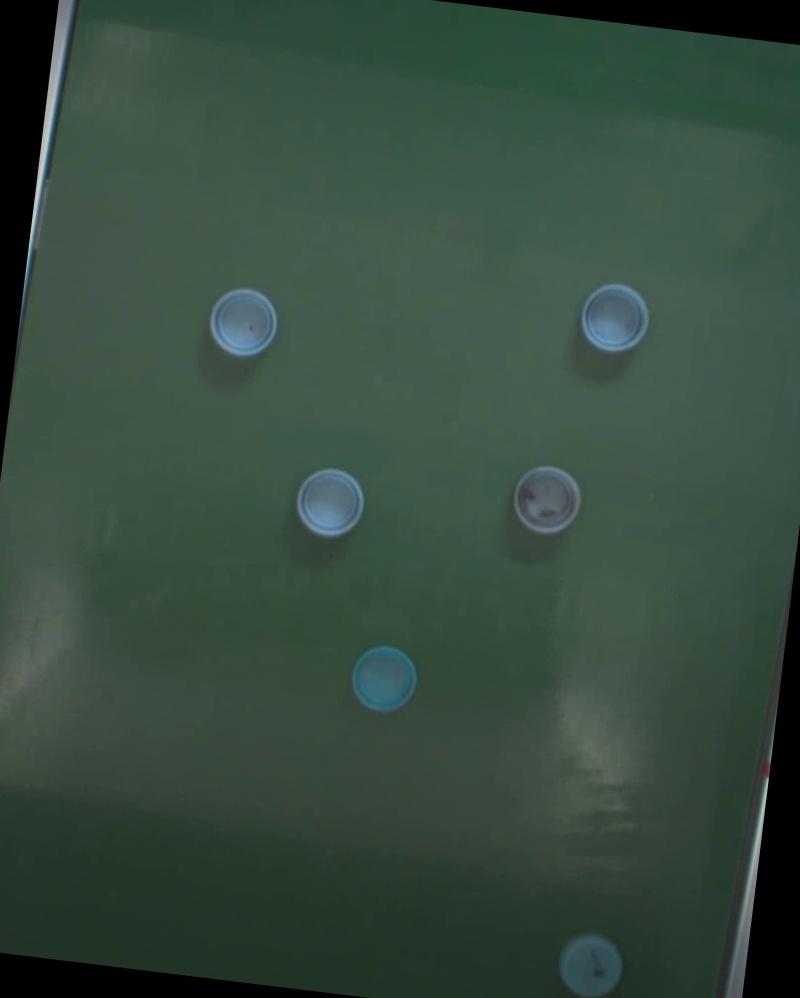Light Blue: (510, 463, 585, 539), (205, 286, 279, 363), (578, 280, 652, 356), (293, 466, 367, 542), (348, 643, 421, 717), (555, 931, 628, 998)
